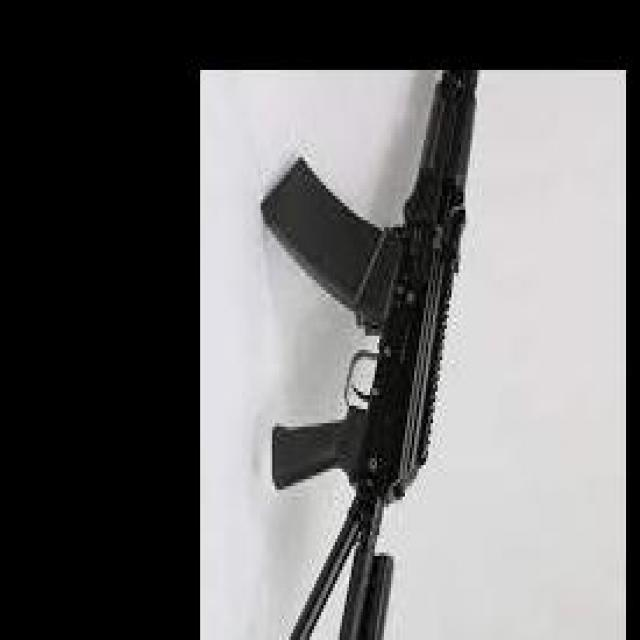weapon: (260, 70, 480, 640)
